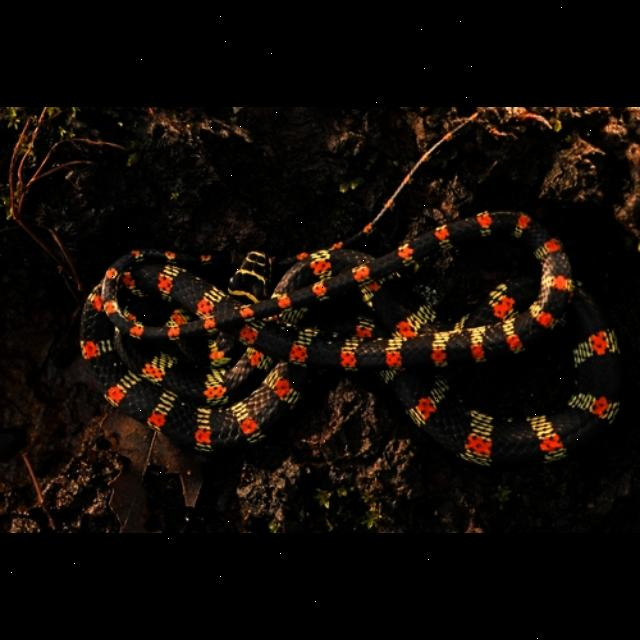snake: (18, 180, 626, 492)
